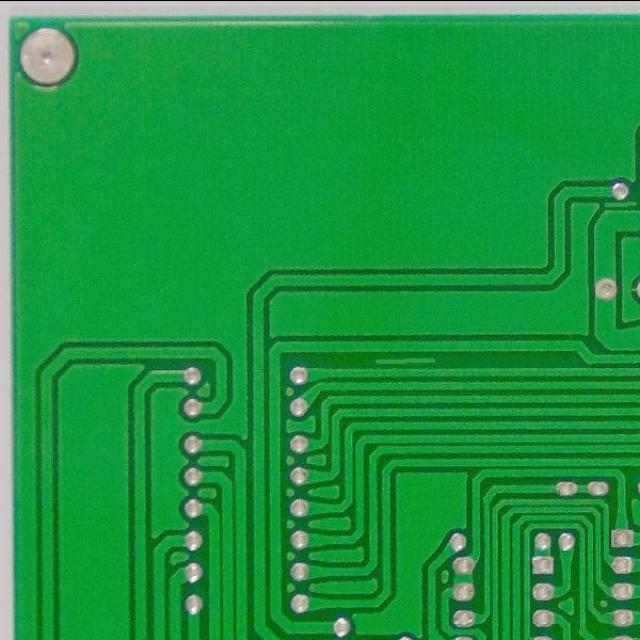Spurious_Cooper: (372, 354, 438, 367), (599, 198, 640, 209)
